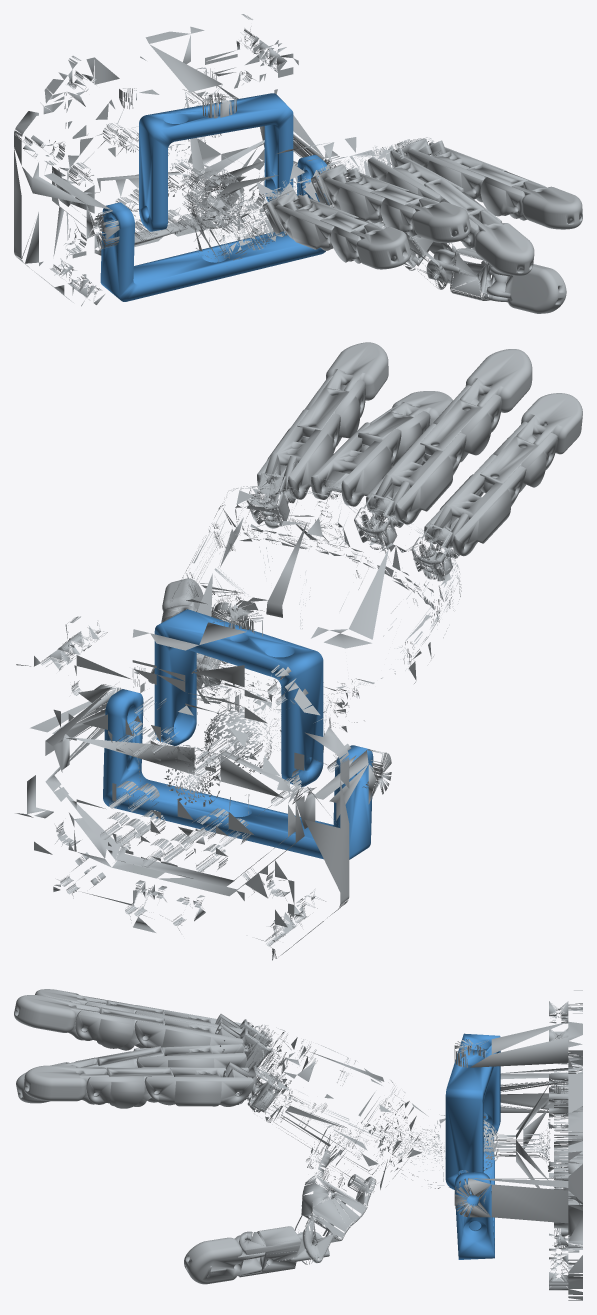
File: ruka_v2.glb
The picture shows the model from 3 angles, top to bottom: view 1: azimuth 30°, elevation 25°; view 2: azimuth 150°, elevation 25°; view 3: azimuth 270°, elevation 25°; orthographic projection. The views are drawn at different scales.
Parts seen in each view (by area): view 1: visual__base_new__0, visual__outer__0, visual__inner__0, visual__backhand__0, visual__thumb___joint_3__0, visual__finger___joint_3_2__0, visual__thumb___joint_2__0, visual__finger___joint_3__0, visual__mcp_4__0, visual__mcp_3__0, visual__finger___joint_3_3__0, visual__pip__0 (+10 smaller); view 2: visual__base_new__0, visual__inner__0, visual__outer__0, visual__backhand__0, visual__mcp_3__0, visual__mcp_4__0, visual__mcp_2__0, visual__mcp__0, visual__pip_3__0, visual__finger___joint_3_3__0, visual__pinky___joint_3__0, visual__pinky___joint_2__0 (+9 smaller); view 3: visual__base_new__0, visual__inner__0, visual__backhand__0, visual__thumb___joint_1__0, visual__mcp__0, visual__outer__0, visual__thumb___joint_3__0, visual__thumb___joint_2__0, visual__pip__0, visual__finger___joint_3__0, visual__pip_3__0, visual__mcp_3__0 (+10 smaller).
Boxes of the visible parts, <box> form: visual__base_new__0: <box>14,14,345,306</box>; visual__outer__0: <box>100,154,329,301</box>; visual__inner__0: <box>139,93,293,231</box>; visual__backhand__0: <box>182,137,433,261</box>; visual__thumb___joint_3__0: <box>486,264,566,313</box>; visual__finger___joint_3_2__0: <box>468,209,534,275</box>; visual__thumb___joint_2__0: <box>426,248,507,302</box>; visual__finger___joint_3__0: <box>511,180,582,229</box>; visual__mcp_4__0: <box>274,195,358,250</box>; visual__mcp_3__0: <box>323,169,408,223</box>; visual__finger___joint_3_3__0: <box>405,198,470,242</box>; visual__pip__0: <box>466,163,546,218</box>; visual__base_new__0: <box>15,608,391,960</box>; visual__inner__0: <box>154,609,323,787</box>; visual__outer__0: <box>103,689,373,859</box>; visual__backhand__0: <box>166,477,461,813</box>; visual__mcp_3__0: <box>366,423,466,524</box>; visual__mcp_4__0: <box>424,454,526,556</box>; visual__mcp_2__0: <box>311,422,401,506</box>; visual__mcp__0: <box>257,409,340,499</box>; visual__pip_3__0: <box>420,385,501,462</box>; visual__finger___joint_3_3__0: <box>459,349,532,412</box>; visual__pinky___joint_3__0: <box>516,393,582,454</box>; visual__pinky___joint_2__0: <box>480,421,557,493</box>; visual__base_new__0: <box>454,990,582,1300</box>; visual__inner__0: <box>445,1033,500,1191</box>; visual__backhand__0: <box>220,1024,491,1195</box>; visual__thumb___joint_1__0: <box>295,1147,376,1264</box>; visual__mcp__0: <box>141,1067,253,1106</box>; visual__outer__0: <box>454,1112,494,1259</box>; visual__thumb___joint_3__0: <box>184,1235,265,1284</box>; visual__thumb___joint_2__0: <box>238,1226,329,1277</box>; visual__pip__0: <box>85,1067,173,1108</box>; visual__finger___joint_3__0: <box>23,1065,109,1104</box>; visual__pip_3__0: <box>75,1004,164,1050</box>; visual__mcp_3__0: <box>134,1013,243,1047</box>.
Size of the model in its own units: 0.1566 by 0.1211 by 0.2351.
